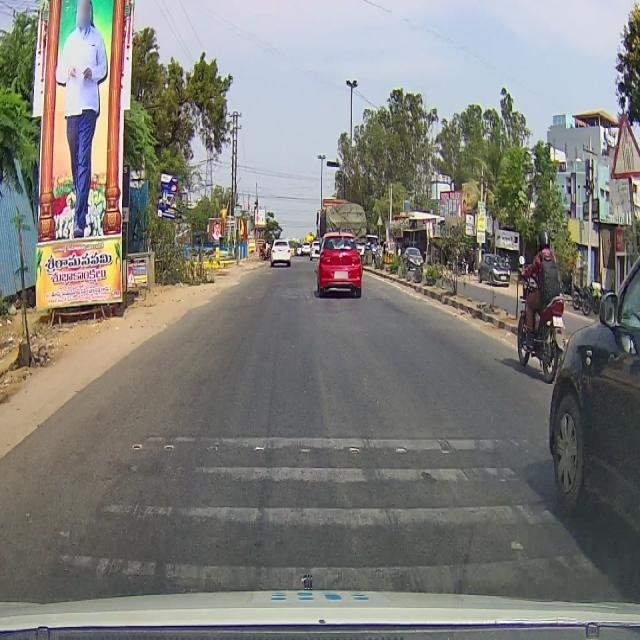car ahead at: (318, 234, 364, 299)
motorcycle ahead at: (513, 285, 564, 370)
